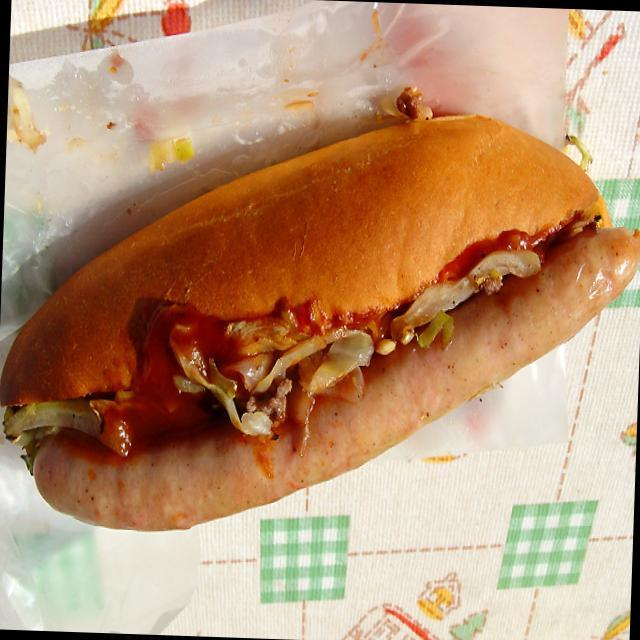Hot Dog: (0, 88, 640, 546)
